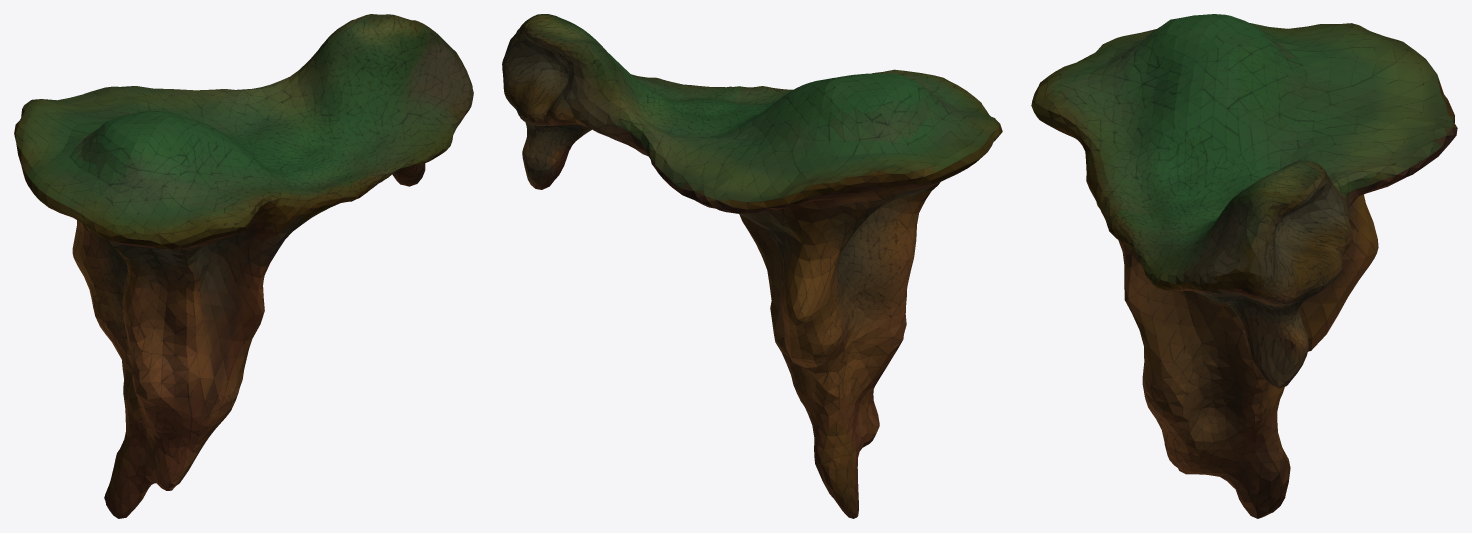
File: smalIsland1.fbx
3 renders of one model, left to right at view 1: azimuth 30°, elevation 25°; view 2: azimuth 150°, elevation 25°; view 3: azimuth 270°, elevation 25°, orthographic. The views are drawn at different scales.
Visible parts, largest first — view 1: Grid; view 2: Grid; view 3: Grid.
Part boxes in pixels (x1,y1,x2,y2): Grid: [14, 14, 473, 518]; Grid: [502, 14, 1002, 518]; Grid: [1031, 14, 1457, 518].
Bounding box in the file's own units: 13683 × 12362 × 9499.
